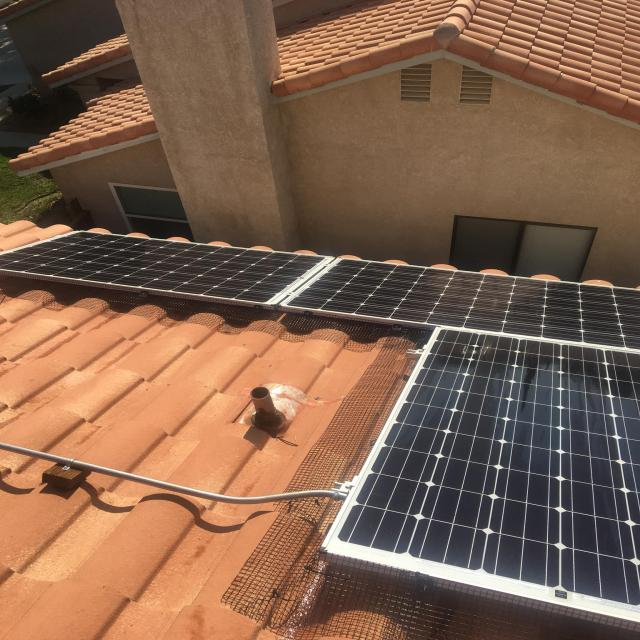clean-solar-panel: (2, 231, 640, 619)
